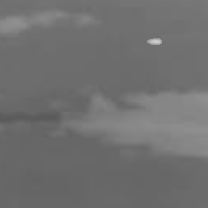Target: (146, 37, 163, 46)
